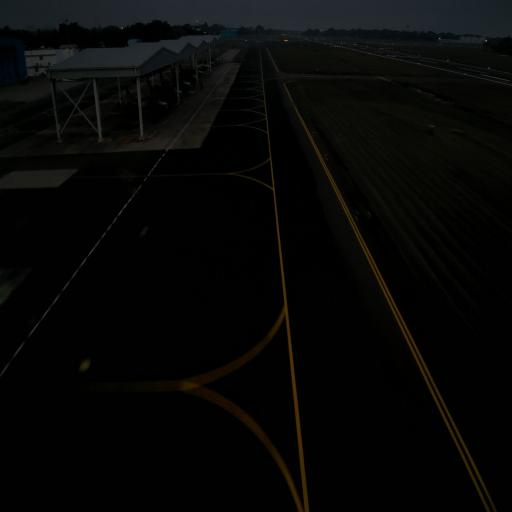on: (366, 209, 372, 219)
